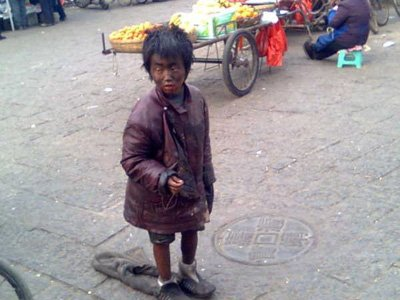no_mask: (140, 27, 196, 99)
